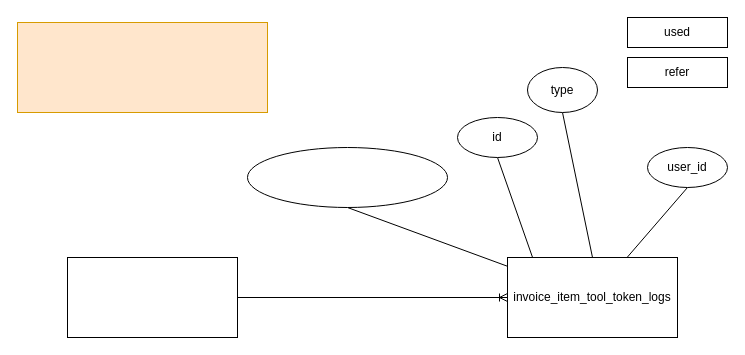
Some shapes in this 745 by 355 pixel diagram are drawn without their labels. The shapes that lost their labels are listed below. From the top down, each one's centre as x and y in pixels, then its label:
[142,67]: TOKEN AUTDIT LOGS
[347,177]: invoice_item_tool_token_id
[152,297]: invoice_item_tool_tokens
